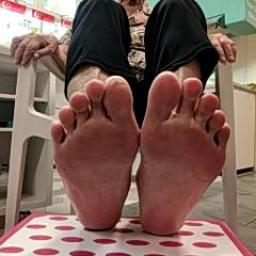Plantar View -Both Feet-: (35, 63, 242, 248)
